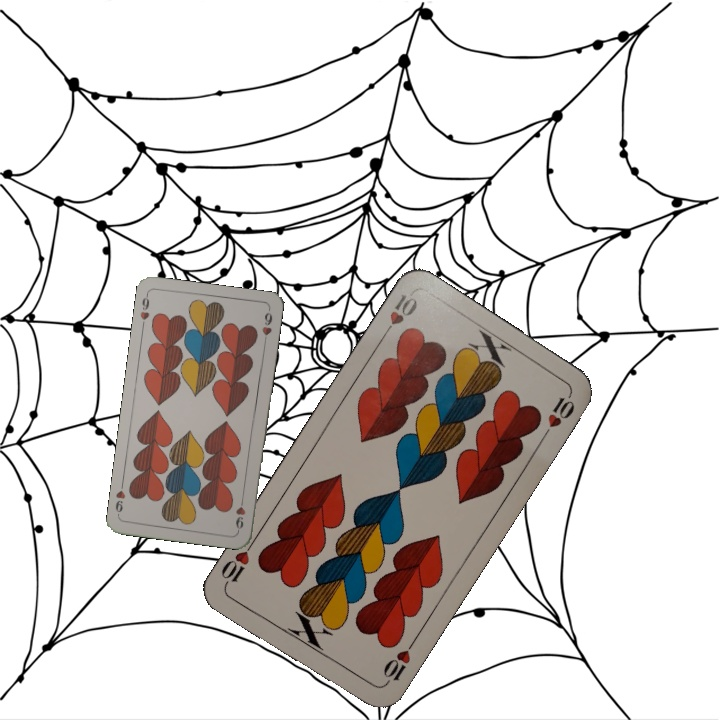H10: (377, 290, 420, 342), (379, 636, 418, 688)
H9: (136, 290, 152, 331), (232, 493, 248, 533)
